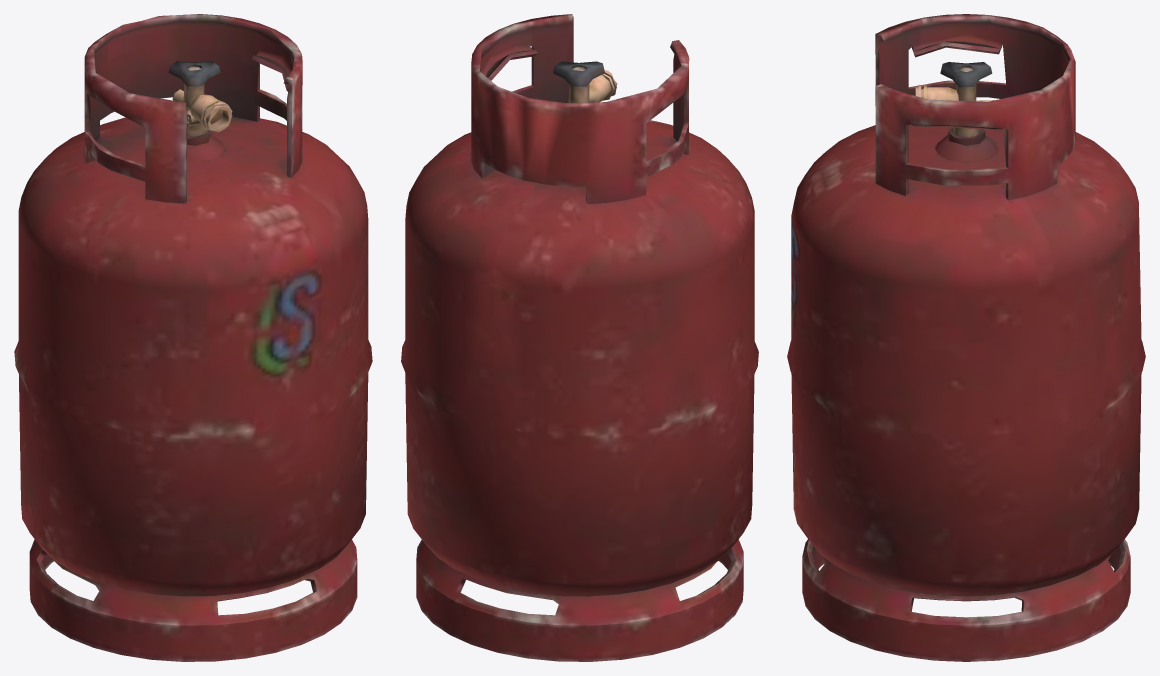
The model's file is propane_tank_lod1.glb.
3 renders of one model, left to right at view 1: azimuth 30°, elevation 25°; view 2: azimuth 150°, elevation 25°; view 3: azimuth 270°, elevation 25°, orthographic.
Parts seen in each view (by area): view 1: propane_tank; view 2: propane_tank; view 3: propane_tank.
Boxes of the visible parts, x1=… form: propane_tank: x1=14, y1=14, x2=372, y2=661; propane_tank: x1=401, y1=14, x2=758, y2=661; propane_tank: x1=787, y1=14, x2=1145, y2=661.
Bounding box in the file's own units: 0.3374 × 0.5537 × 0.3374.
Materials: 1 (1 with a texture image).
